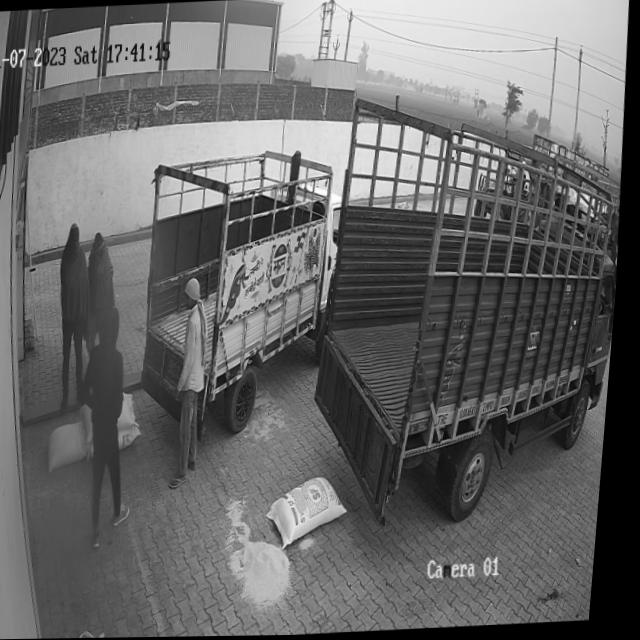sack: (270, 476, 358, 553), (52, 420, 99, 469)
